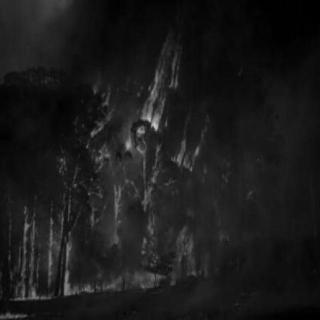Fire: (8, 9, 236, 305)
